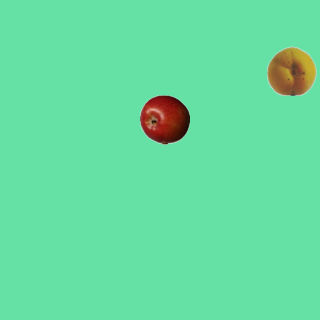Apple Braeburn: (139, 94, 189, 144)
Peach 2: (266, 45, 316, 95)
